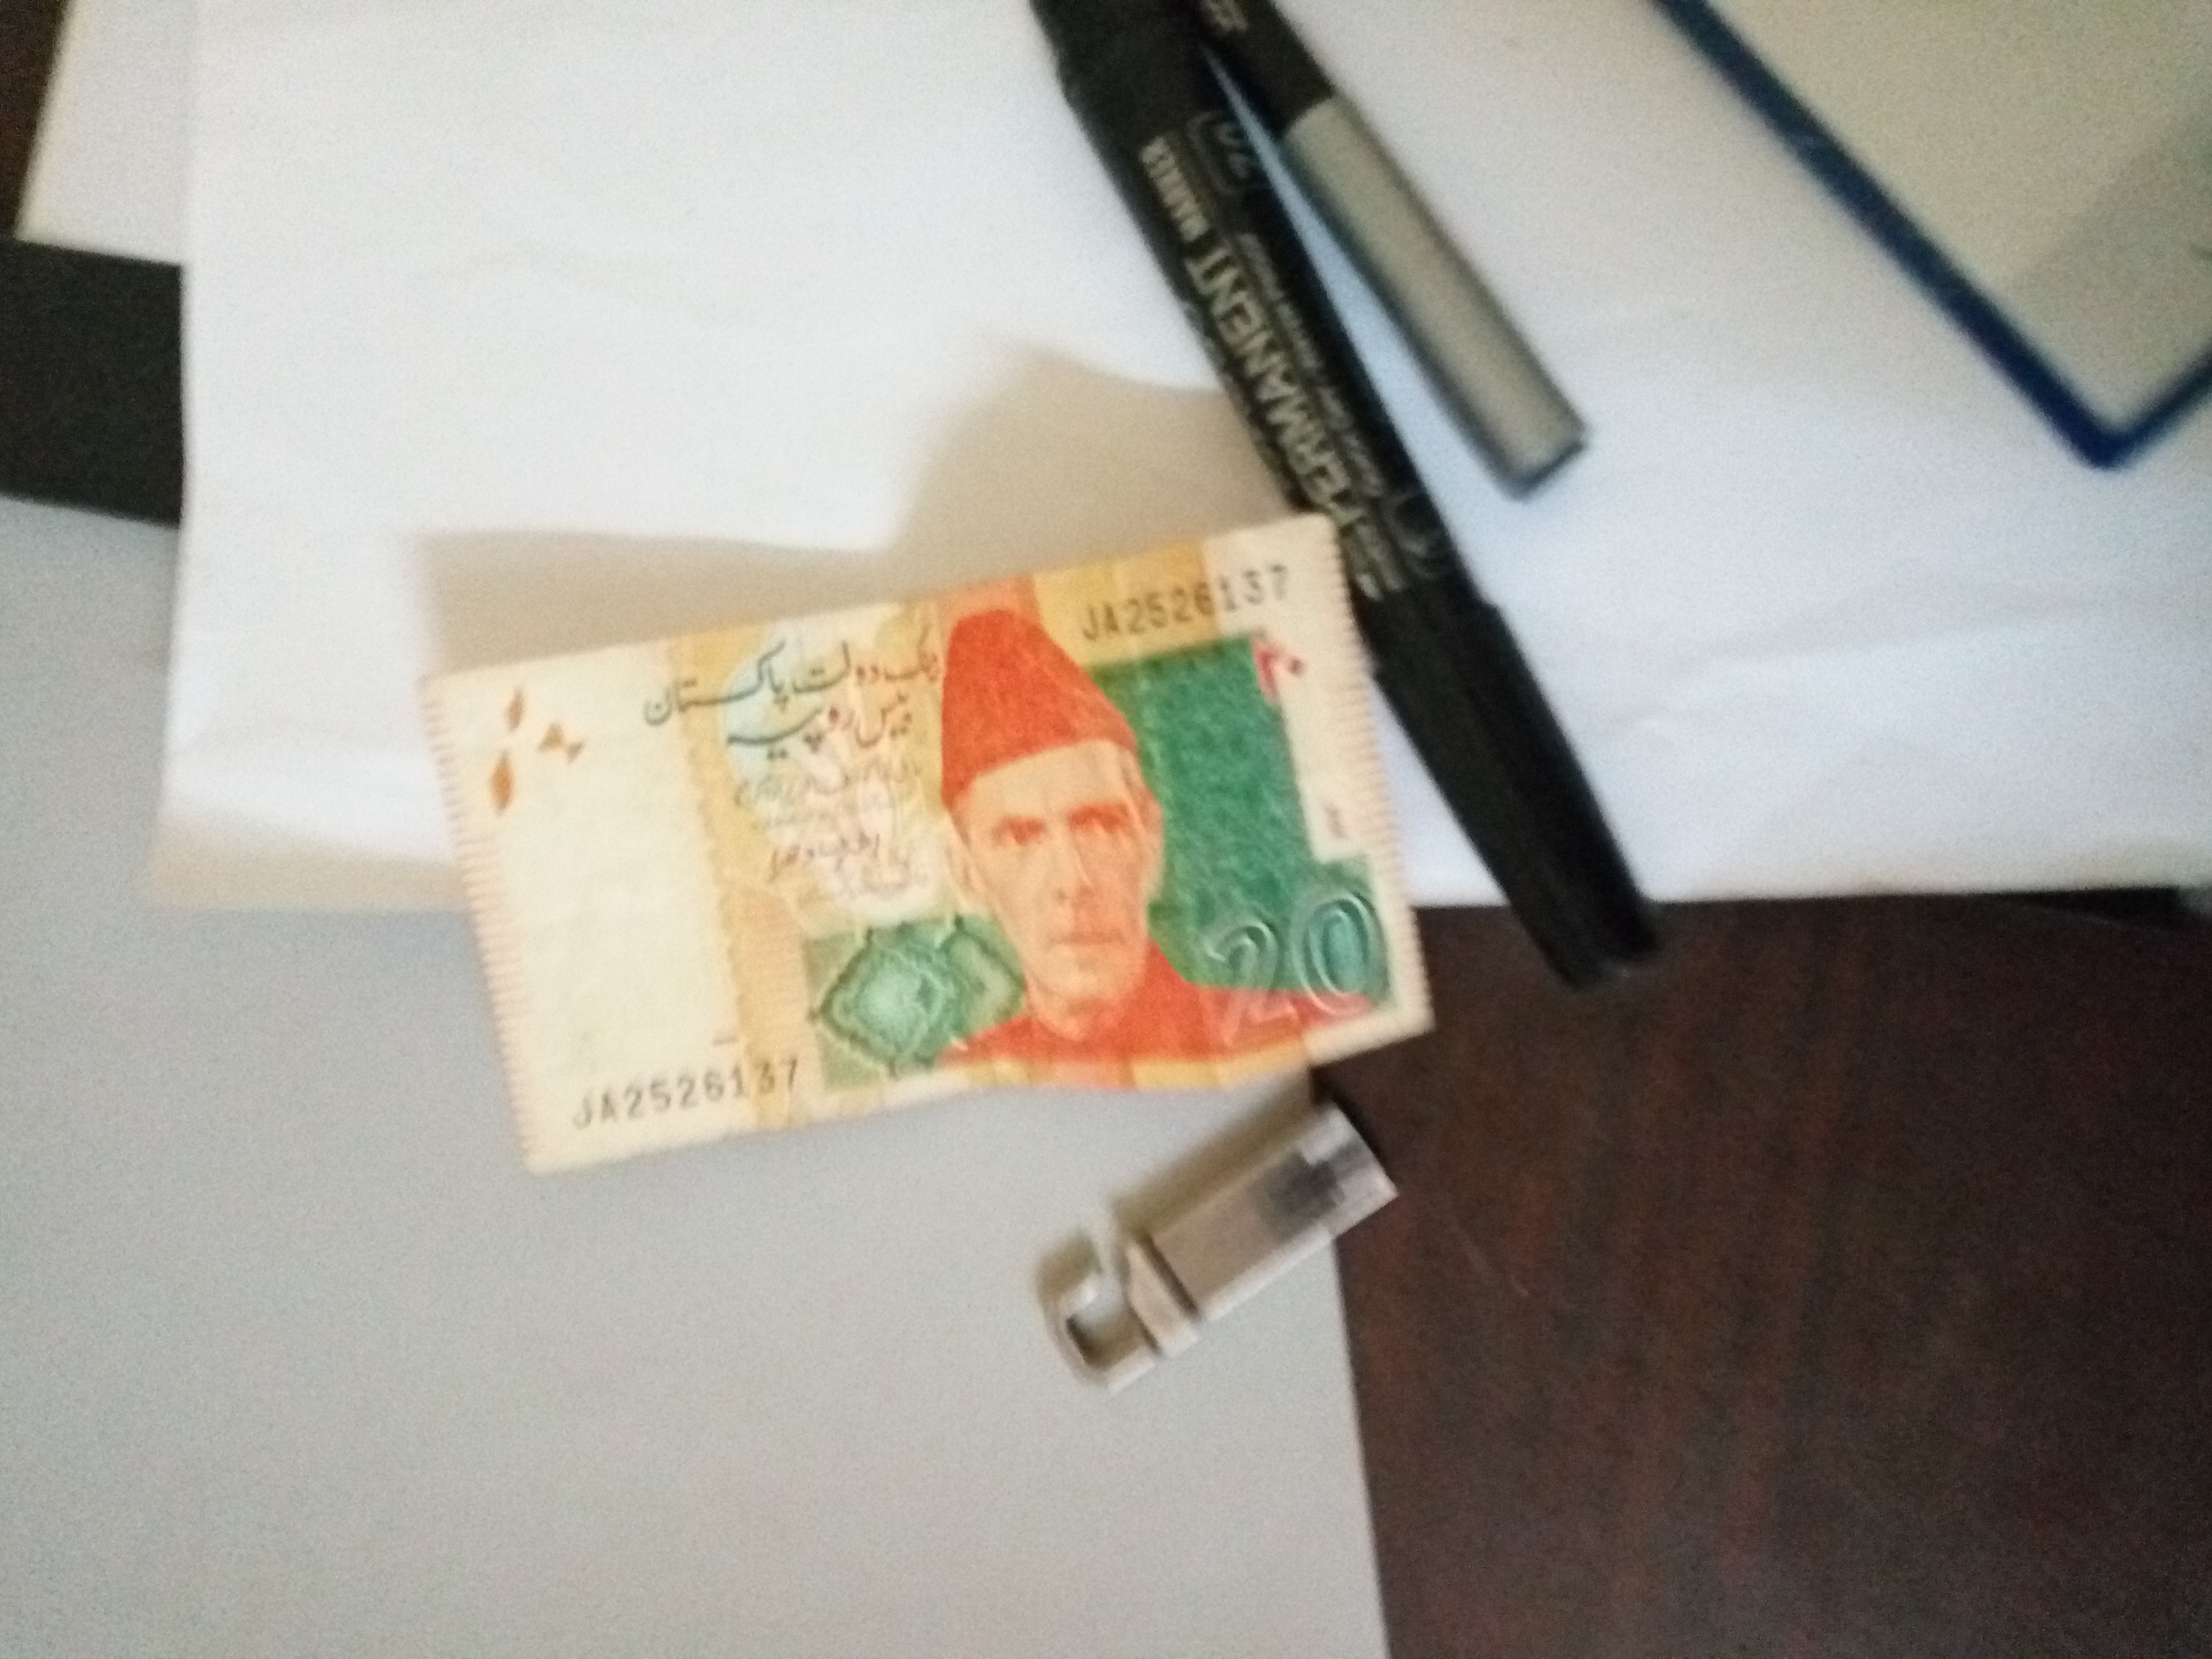20 rupee: (415, 547, 1460, 1143)
